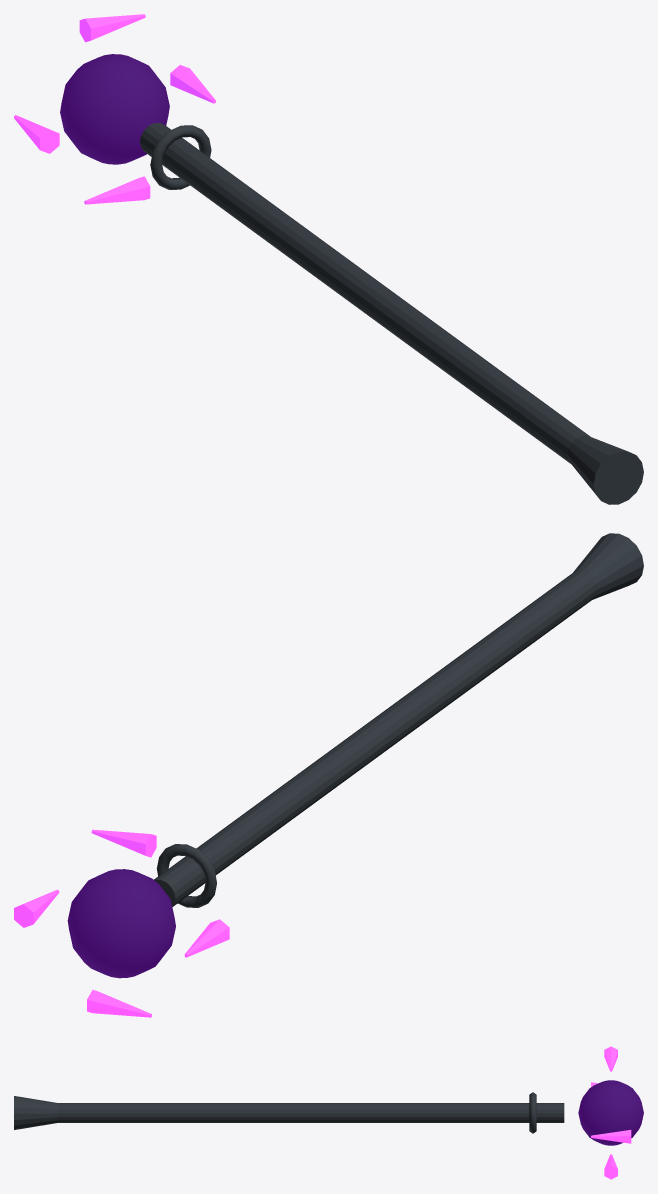
The model's file is WPN_Staff_Singularity_FP_v01.glb.
The picture shows the model from 3 angles, top to bottom: view 1: azimuth 30°, elevation 25°; view 2: azimuth 150°, elevation 25°; view 3: azimuth 270°, elevation 25°; orthographic projection. The views are drawn at different scales.
Parts seen in each view (by area): view 1: MESH_Weapon, MESH_SingularityCore, MESH_OrbitShards; view 2: MESH_Weapon, MESH_SingularityCore, MESH_OrbitShards; view 3: MESH_Weapon, MESH_SingularityCore, MESH_OrbitShards.
Part boxes in pixels (x1,y1,x2,y2): MESH_Weapon: (140,123,643,504); MESH_SingularityCore: (60,54,169,164); MESH_OrbitShards: (14,14,215,204); MESH_Weapon: (154,533,643,907); MESH_SingularityCore: (67,869,175,978); MESH_OrbitShards: (14,829,229,1017); MESH_Weapon: (14,1092,564,1133); MESH_SingularityCore: (578,1080,643,1145); MESH_OrbitShards: (591,1046,631,1179).
Size of the model in its own units: 0.4033 by 0.41 by 2.01.
